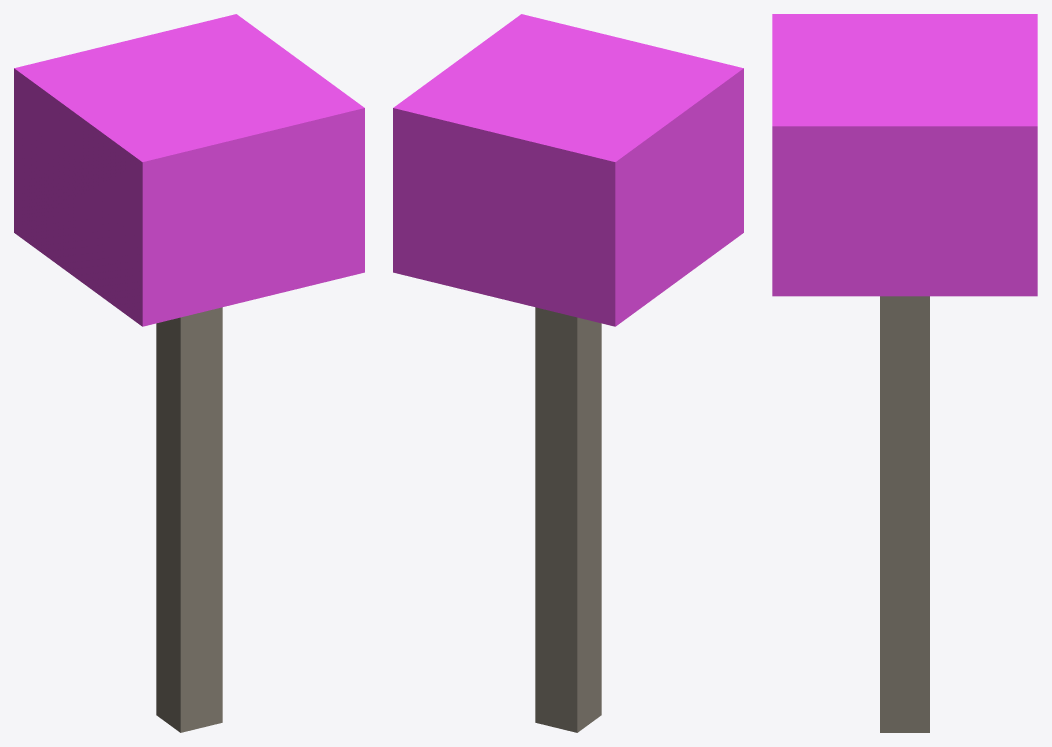
File: cswp.obj
The picture shows the model from 3 angles, left to right: view 1: azimuth 30°, elevation 25°; view 2: azimuth 150°, elevation 25°; view 3: azimuth 270°, elevation 25°; orthographic projection. The views are drawn at different scales.
Parts seen in each view (by area): view 1: nocol_wp; view 2: nocol_wp; view 3: nocol_wp.
Part boxes in pixels (<box>): nocol_wp: <box>14,14,364,732</box>; nocol_wp: <box>393,14,743,732</box>; nocol_wp: <box>772,14,1037,732</box>.
Size of the model in its own units: 0.4242 by 1.15 by 0.4242.
